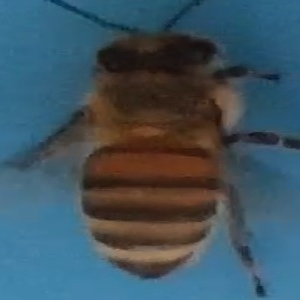bee: (17, 2, 300, 297)
